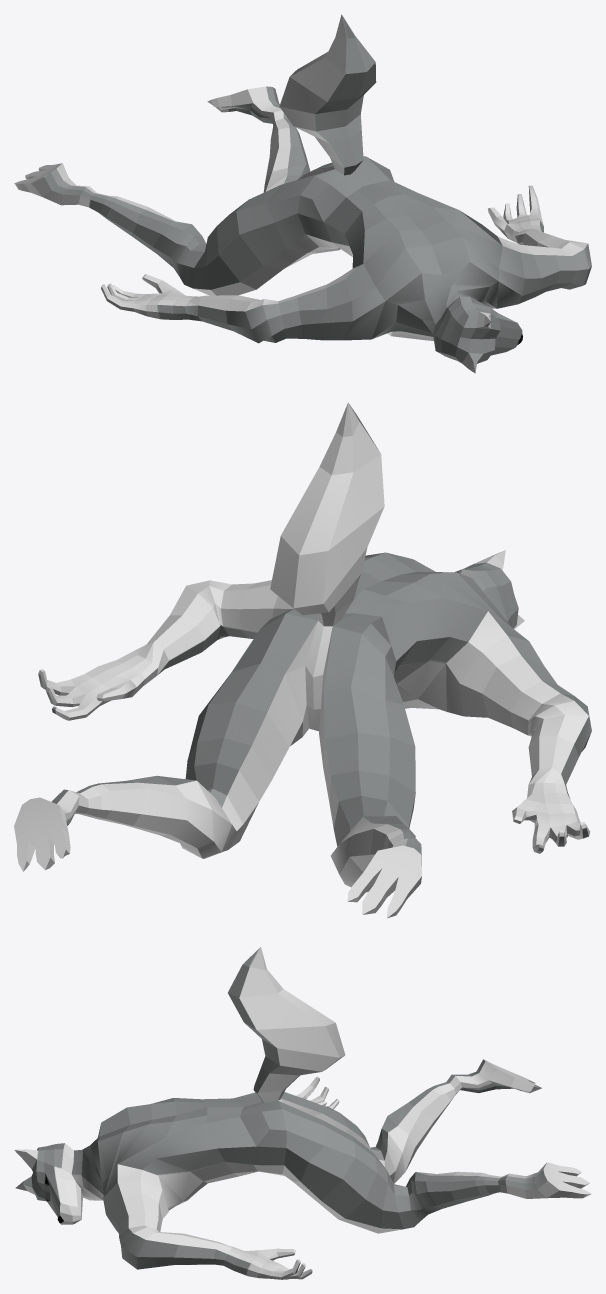
File: WolfDead(103).obj
3 views of the same model, one above another, from view 1: azimuth 30°, elevation 25°; view 2: azimuth 150°, elevation 25°; view 3: azimuth 270°, elevation 25° (orthographic). The views are drawn at different scales.
Visible parts, largest first — view 1: Box001; view 2: Box001; view 3: Box001.
Part boxes in pixels (x1,y1,x2,y2): Box001: (14,14,591,373); Box001: (14,402,591,918); Box001: (14,947,591,1279).
Size of the model in its own units: 127 by 87.03 by 164.
